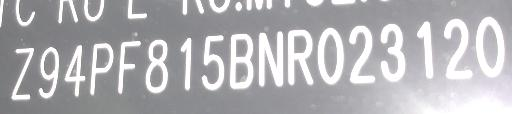letter: (474, 13, 506, 80), (440, 17, 474, 80), (314, 24, 346, 84), (284, 27, 316, 85), (378, 22, 408, 83), (347, 23, 377, 84), (256, 29, 286, 88), (144, 36, 172, 95), (9, 44, 37, 102), (228, 30, 254, 89), (117, 38, 143, 97), (413, 18, 435, 82), (202, 32, 226, 90), (90, 41, 114, 97), (64, 42, 88, 97), (38, 44, 60, 99), (176, 36, 194, 94)
